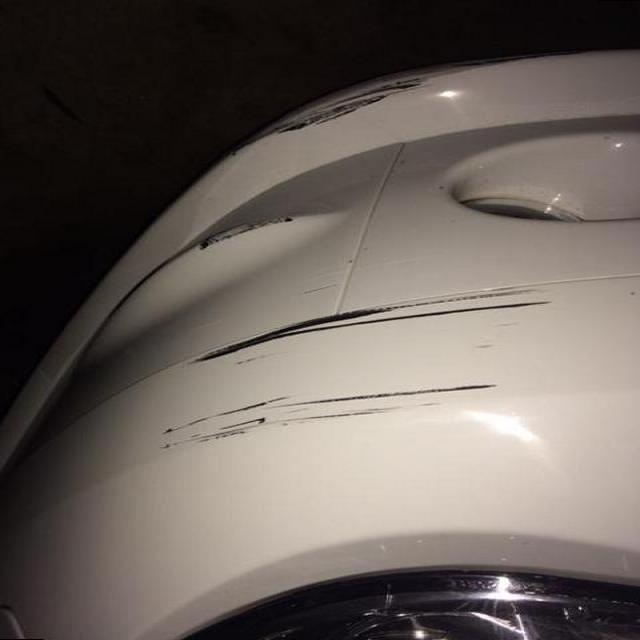scratch: (110, 262, 604, 480), (230, 49, 465, 164)
